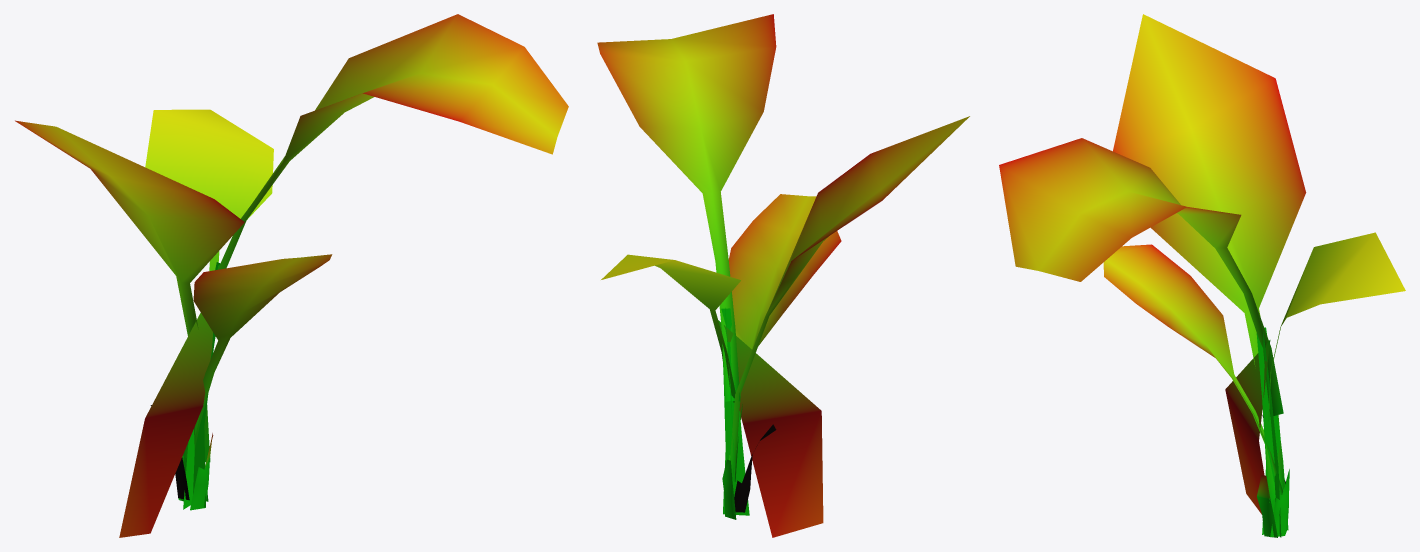
File: Cat Palm_LOD4_Var4_tjejafeia.fbx
3 renders of one model, left to right at view 1: azimuth 30°, elevation 25°; view 2: azimuth 150°, elevation 25°; view 3: azimuth 270°, elevation 25°, orthographic. The views are drawn at different scales.
Visible parts, largest first — view 1: _ad5b_Var4_LOD4; view 2: _ad5b_Var4_LOD4; view 3: _ad5b_Var4_LOD4.
Part boxes in pixels (x1,y1,x2,y2): _ad5b_Var4_LOD4: (15,14,568,537); _ad5b_Var4_LOD4: (597,14,969,537); _ad5b_Var4_LOD4: (999,14,1405,537).
Size of the model in its own units: 65.28 by 65.61 by 54.54.
